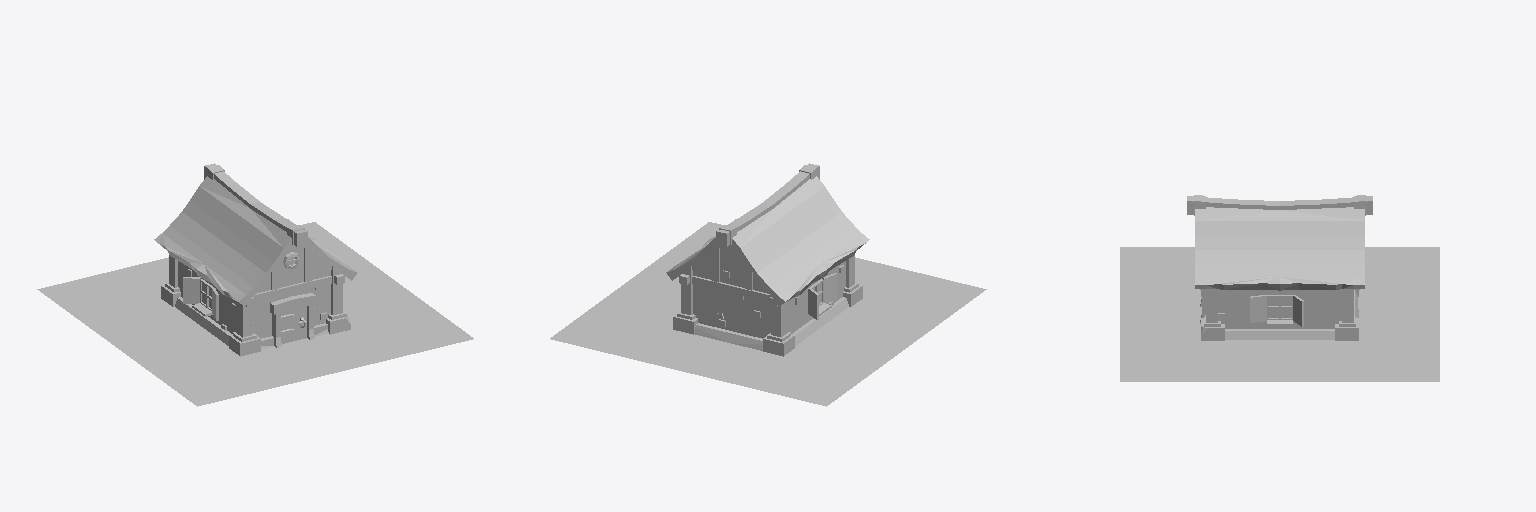
File: House2OBJ.obj
3 renders of one model, left to right at view 1: azimuth 30°, elevation 25°; view 2: azimuth 150°, elevation 25°; view 3: azimuth 270°, elevation 25°, orthographic.
Parts seen in each view (by area): view 1: Object_3_Object_0, Object_5_Object_1; view 2: Object_3_Object_0, Object_5_Object_1; view 3: Object_3_Object_0, Object_5_Object_1.
Boxes of the visible parts, box(x1,y1,x2,y2) form: Object_3_Object_0: box(37, 222, 473, 406); Object_5_Object_1: box(154, 163, 357, 356); Object_3_Object_0: box(550, 222, 986, 406); Object_5_Object_1: box(666, 163, 869, 356); Object_3_Object_0: box(1120, 247, 1439, 381); Object_5_Object_1: box(1187, 195, 1372, 340).
Bounding box in the file's own units: 17.76 × 7.12 × 17.76.